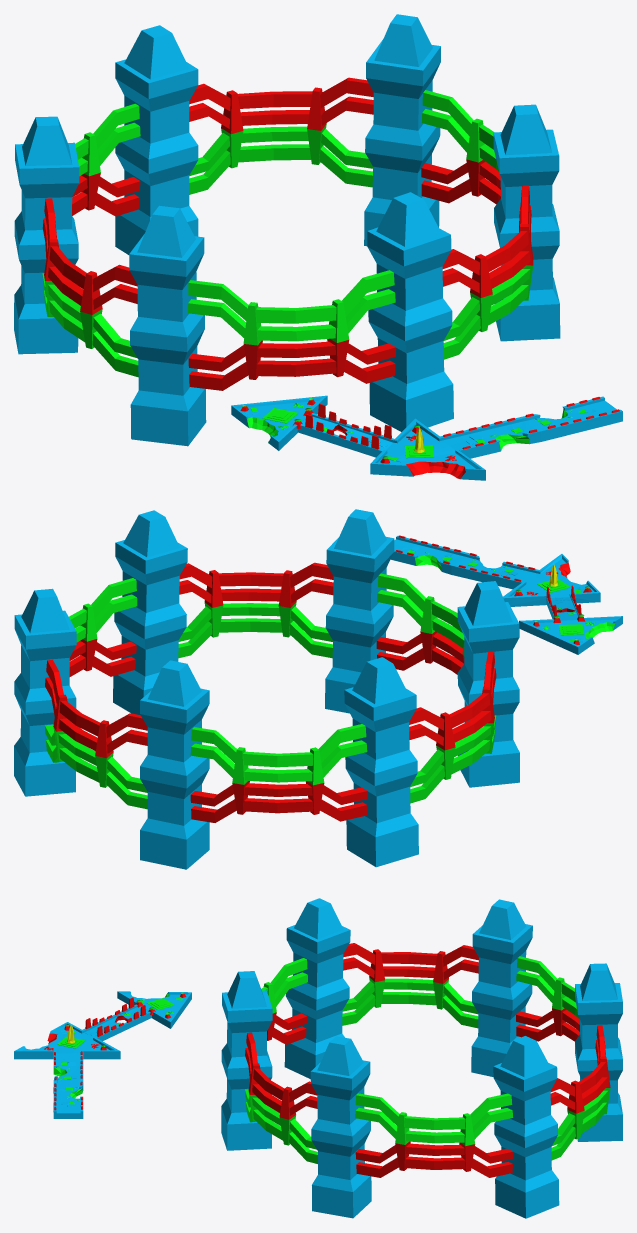
The model's file is level01_floor04.FBX.
3 renders of one model, top to bottom at view 1: azimuth 30°, elevation 25°; view 2: azimuth 150°, elevation 25°; view 3: azimuth 270°, elevation 25°, orthographic. The views are drawn at different scales.
Parts seen in each view (by area): view 1: floor04_tower, floor04_floor01, floor04_floor02; view 2: floor04_tower, floor04_floor01, floor04_floor02; view 3: floor04_tower, floor04_floor01, floor04_floor02.
Part boxes in pixels (x1,y1,x2,y2): floor04_tower: [14, 14, 560, 446]; floor04_floor01: [370, 396, 622, 480]; floor04_floor02: [231, 395, 394, 457]; floor04_tower: [14, 509, 519, 869]; floor04_floor01: [390, 535, 600, 606]; floor04_floor02: [519, 585, 622, 654]; floor04_tower: [221, 898, 622, 1218]; floor04_floor01: [14, 1022, 120, 1118]; floor04_floor02: [82, 991, 191, 1040].
Bounding box in the file's own units: 1860 × 840 × 2795.
